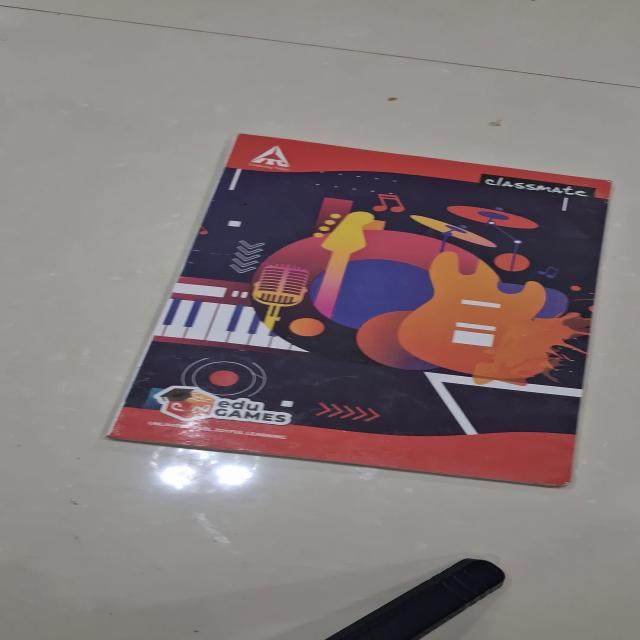paper: (104, 133, 612, 487)
